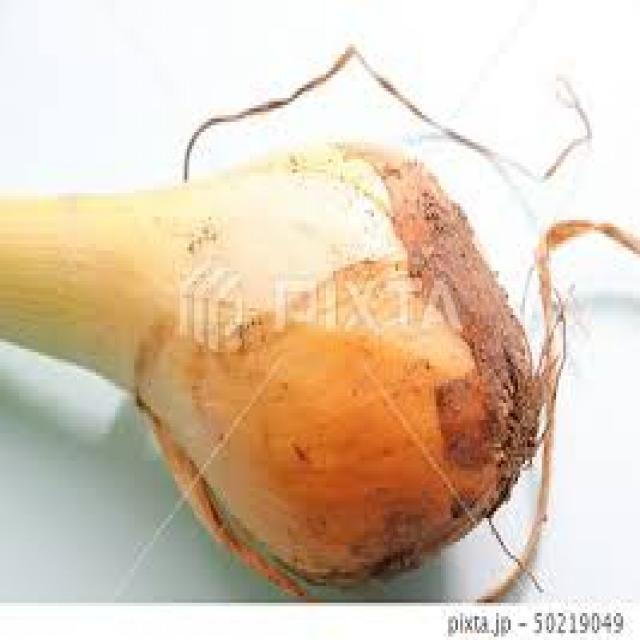Onion: (132, 48, 640, 606), (0, 189, 131, 392)
